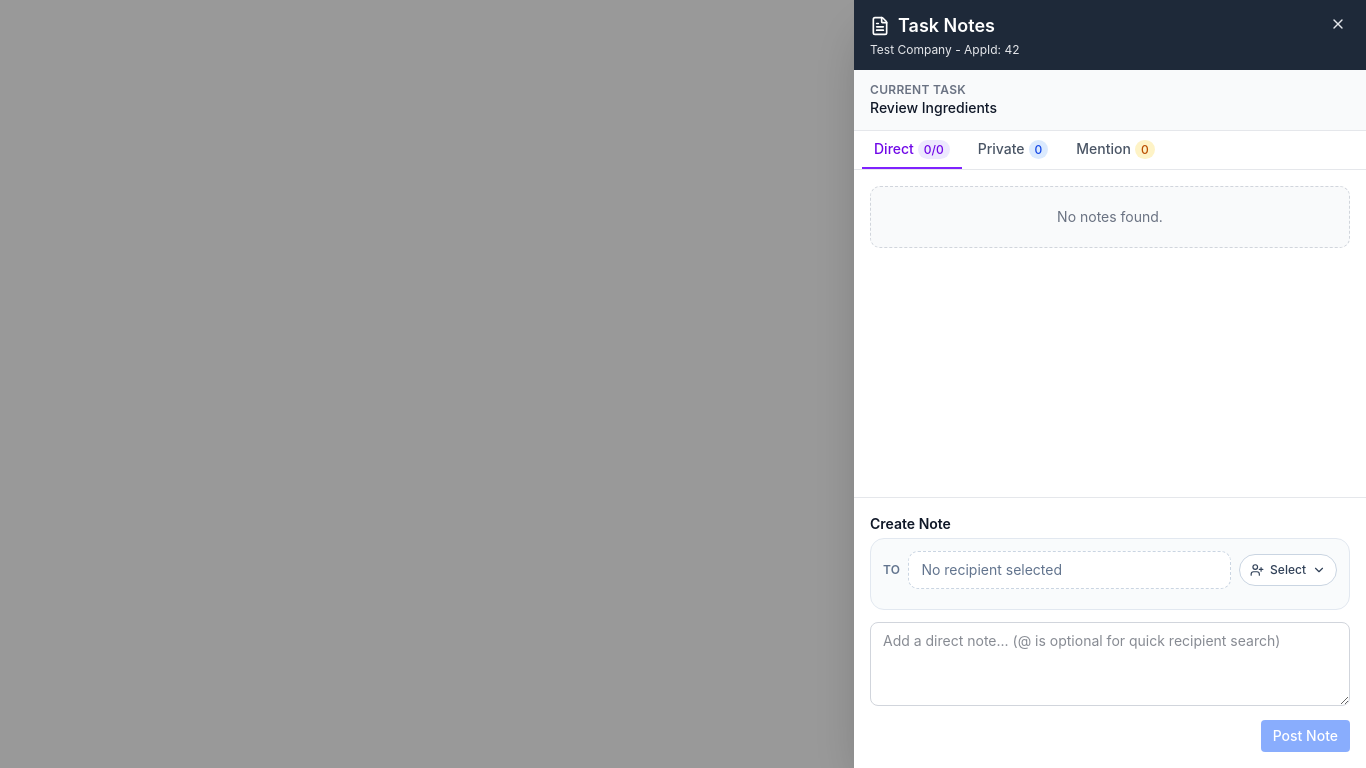
it: TaskNotesDrawer › allows selecting multiple directed users via @ mentions
This screenshot has width=1366, height=768.
Replace the text in the text box with "@al" at (1110, 664), box [870,622,1350,706]
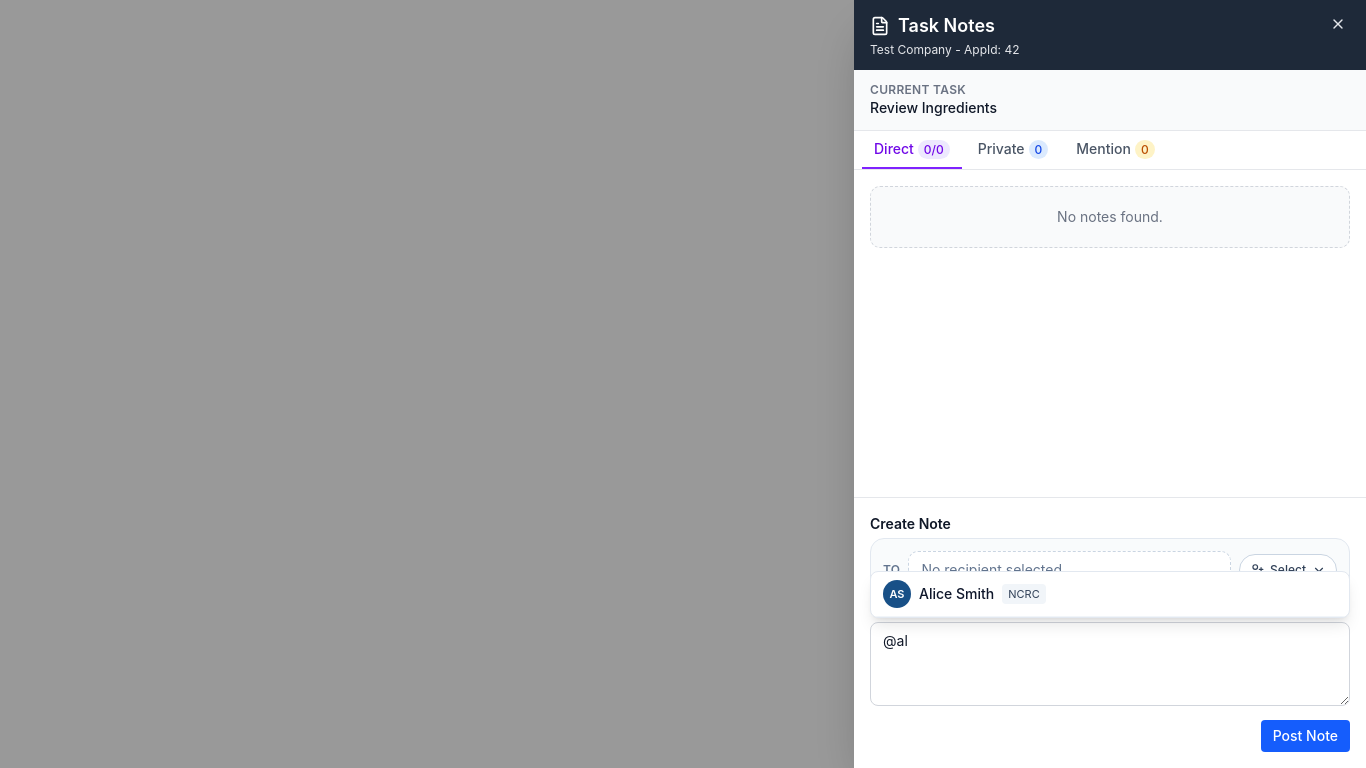
Now the button "AS Alice Smith NCRC" is shown
Click the button "AS Alice Smith NCRC" at (957, 594), box [871,572,1349,617]
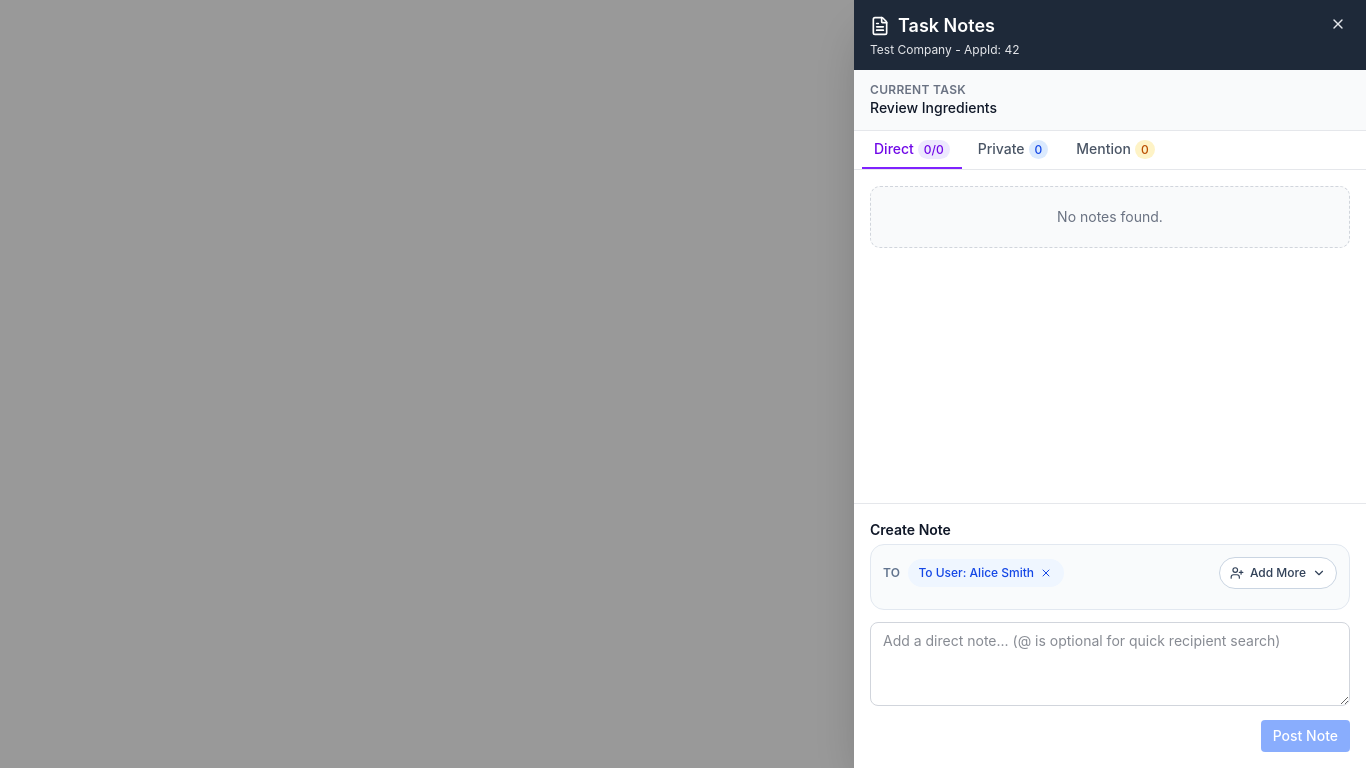
Replace the text in the text box with "@bu" at (1110, 664), box [870,622,1350,706]
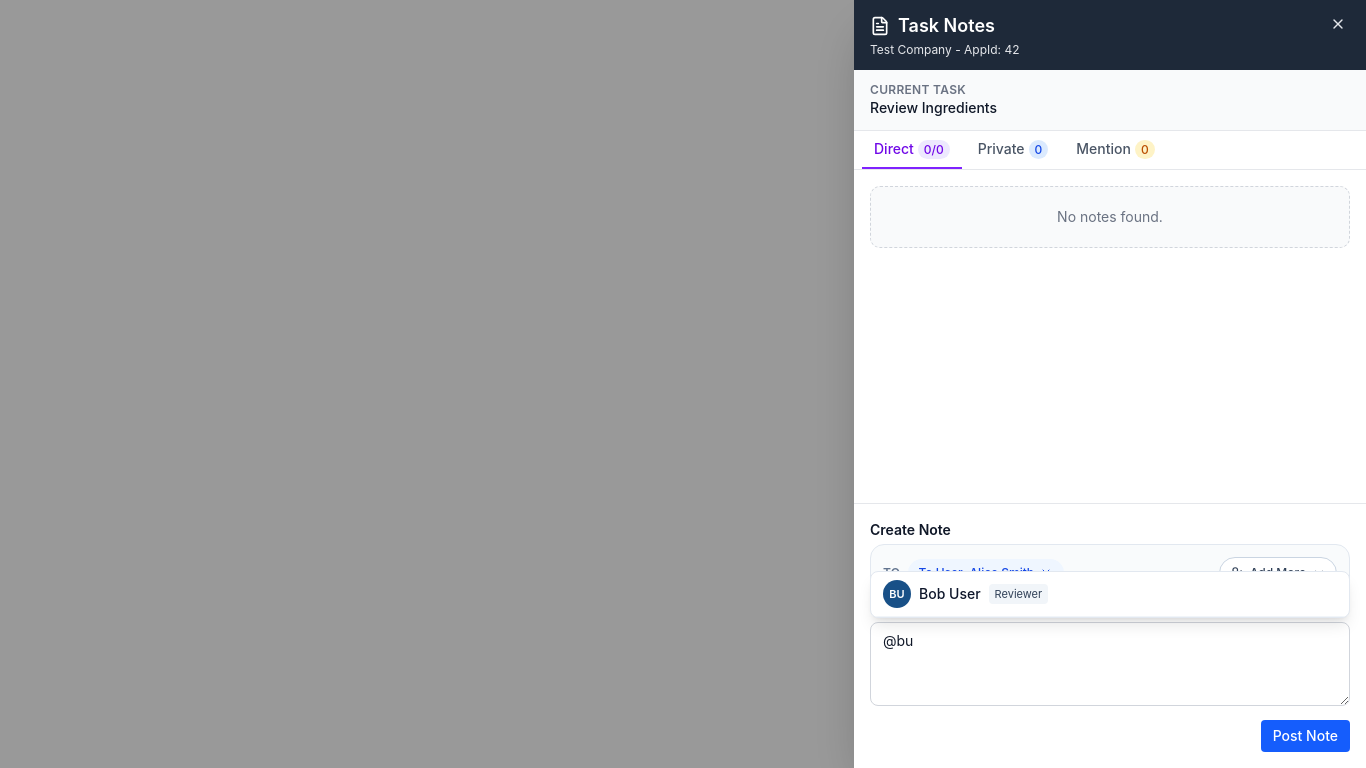
Now the button "BU Bob User Reviewer" is shown
Click the button "BU Bob User Reviewer" at (950, 594), box [871,572,1349,617]
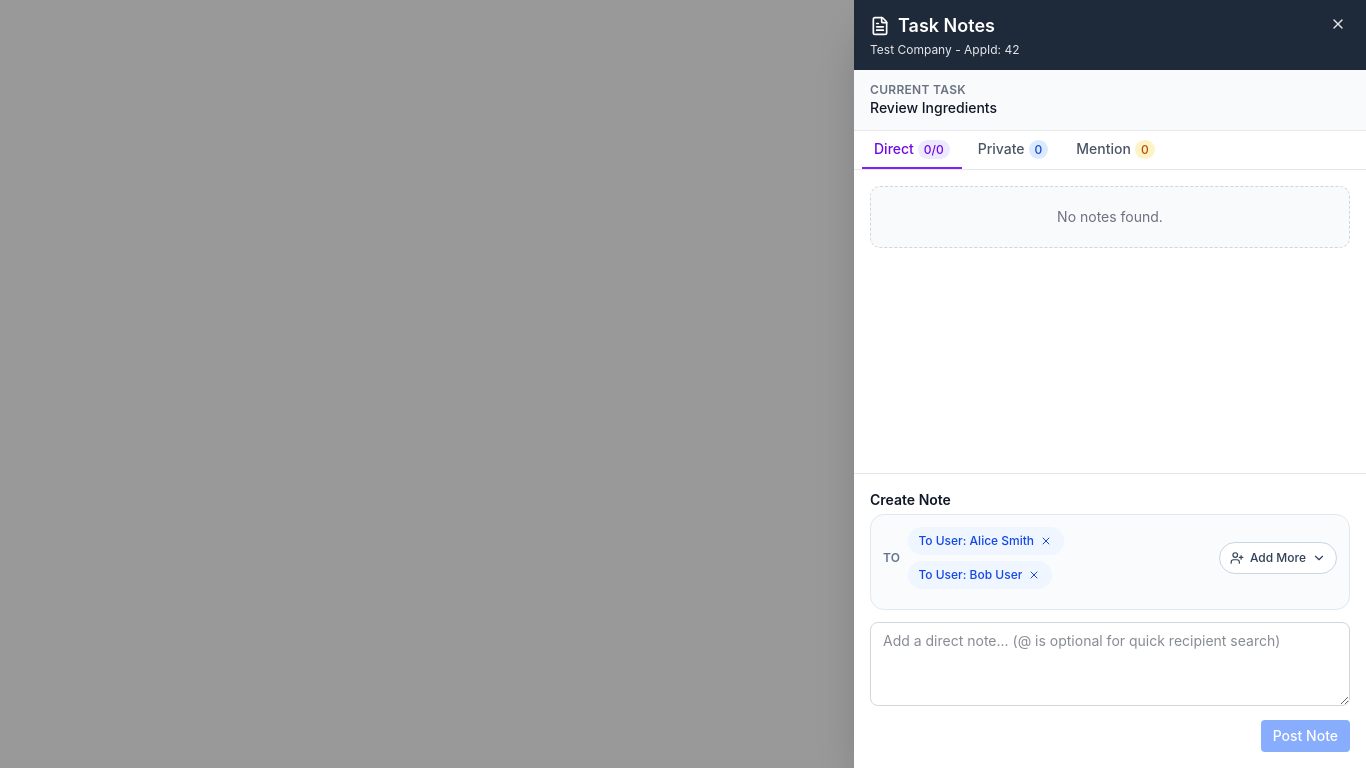
Now the text "To User: Alice Smith" is shown, box [918,533,1034,549]
Now the text box is empty, box [870,622,1350,706]
Now the text "To User: Bob User" is shown, box [918,567,1022,583]
